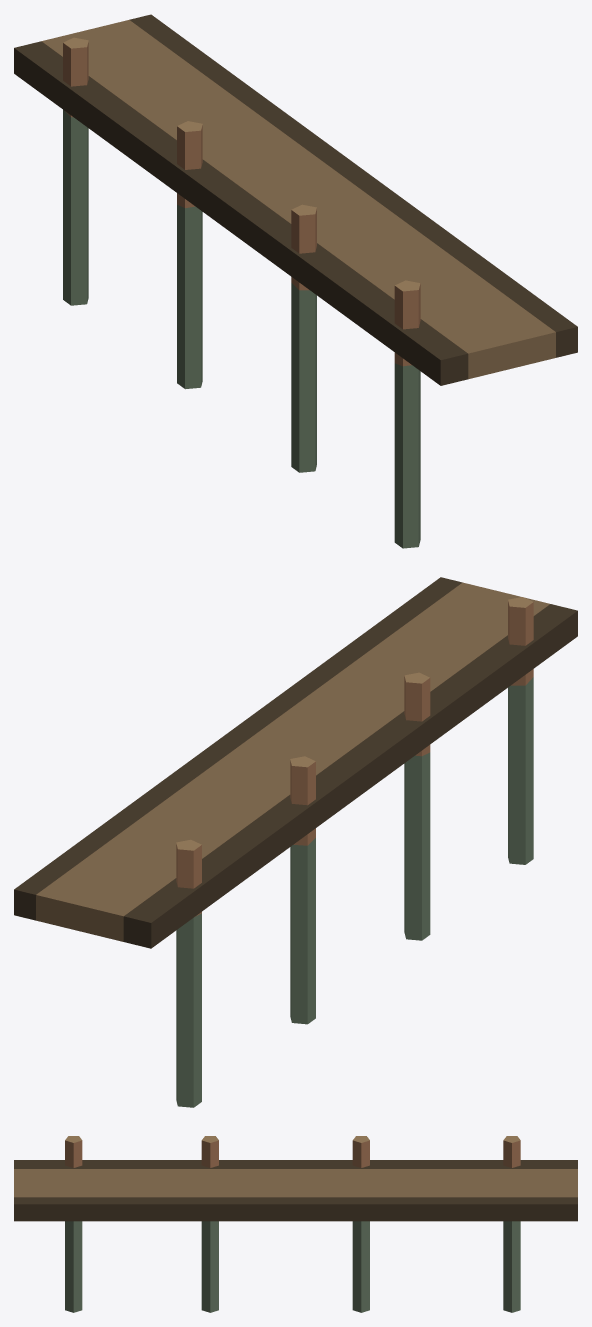
The model's file is SM_Bld_Background_Dock_04.fbx.
3 renders of one model, top to bottom at view 1: azimuth 30°, elevation 25°; view 2: azimuth 150°, elevation 25°; view 3: azimuth 270°, elevation 25°, orthographic. The views are drawn at different scales.
Parts seen in each view (by area): view 1: SM_Bld_Background_Dock_04; view 2: SM_Bld_Background_Dock_04; view 3: SM_Bld_Background_Dock_04.
Boxes of the visible parts, x1=… form: SM_Bld_Background_Dock_04: x1=14, y1=14, x2=577, y2=548; SM_Bld_Background_Dock_04: x1=14, y1=577, x2=577, y2=1107; SM_Bld_Background_Dock_04: x1=14, y1=1136, x2=577, y2=1312.
Size of the model in its own units: 325 by 582 by 1750.
